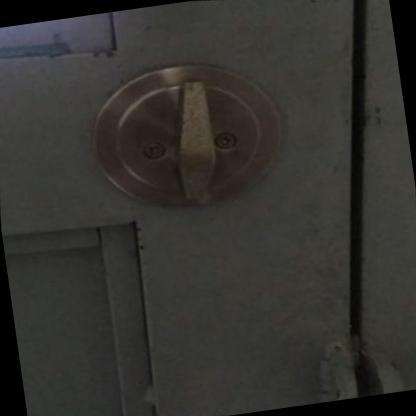unlock: (60, 21, 394, 252)
